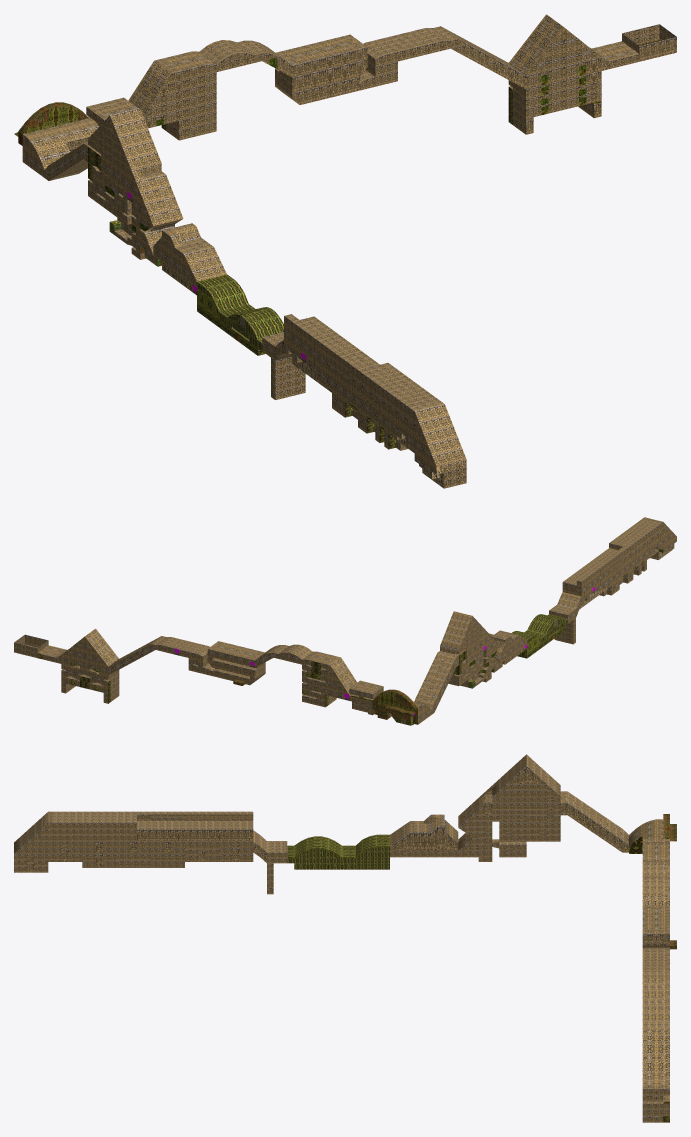
The model's file is tut1.fbx.
3 renders of one model, top to bottom at view 1: azimuth 30°, elevation 25°; view 2: azimuth 150°, elevation 25°; view 3: azimuth 270°, elevation 25°, orthographic. The views are drawn at different scales.
Visible parts, largest first — view 1: Room#75, Room#76, Room#8, Room#142, Room#80, Room#178, Room#10, Room#145, Room#189, Room#1, Room#146, Room#77 (+20 smaller); view 2: Room#8, Room#75, Room#80, Room#10, Room#77, Room#89, Room#76, Room#189, Room#87, Room#143, Room#140, Room#161 (+7 smaller); view 3: Room#76, Room#77, Room#10, Room#39, Room#1, Room#37, Room#8, Room#179, Room#4, Room#9, Room#12, Room#74 (+14 smaller).
Boxes of the visible parts, x1,y1,x2,y2 form: Room#75: (349,362,434,444); Room#76: (366,363,457,442); Room#8: (284,314,356,386); Room#142: (280,37,367,77); Room#80: (88,113,143,181); Room#178: (513,17,563,75); Room#10: (117,108,161,175); Room#145: (279,59,367,93); Room#189: (622,24,676,61); Room#1: (422,437,466,488); Room#146: (279,77,359,104); Room#77: (300,316,379,367); Room#8: (577,550,622,596); Room#75: (618,520,671,566); Room#80: (454,615,488,653); Room#10: (440,611,467,653); Room#77: (562,548,617,595); Room#89: (372,689,398,721); Room#76: (609,517,657,550); Room#189: (14,634,48,657); Room#87: (396,690,417,725); Room#143: (207,656,257,677); Room#140: (207,647,256,667); Room#161: (84,634,110,666); Room#76: (27,814,136,841); Room#77: (137,820,253,841); Room#10: (492,757,560,802); Room#39: (424,817,458,857); Room#1: (14,833,48,872); Room#37: (390,823,423,857); Room#8: (150,811,253,820); Room#179: (642,1030,663,1076); Room#4: (82,841,116,867); Room#9: (116,841,150,867); Room#12: (150,841,184,867); Room#74: (492,803,560,815).
Bounding box in the file's own units: 340 × 98 × 388.
